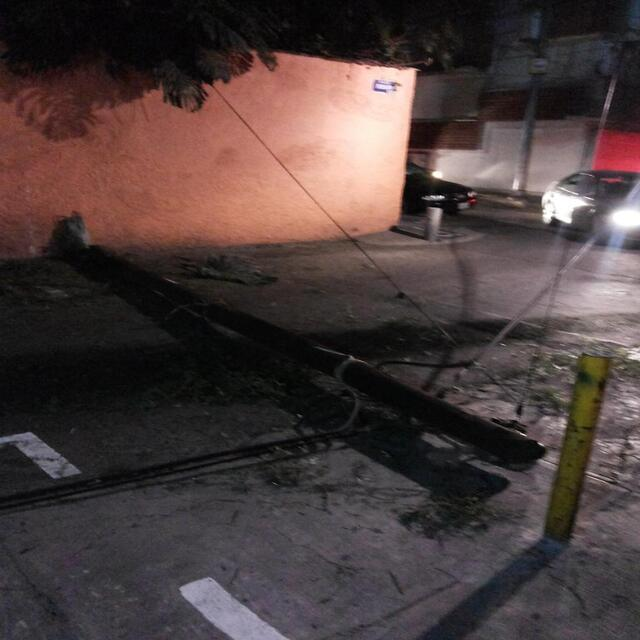Inclined Pole: (63, 210, 547, 470)
